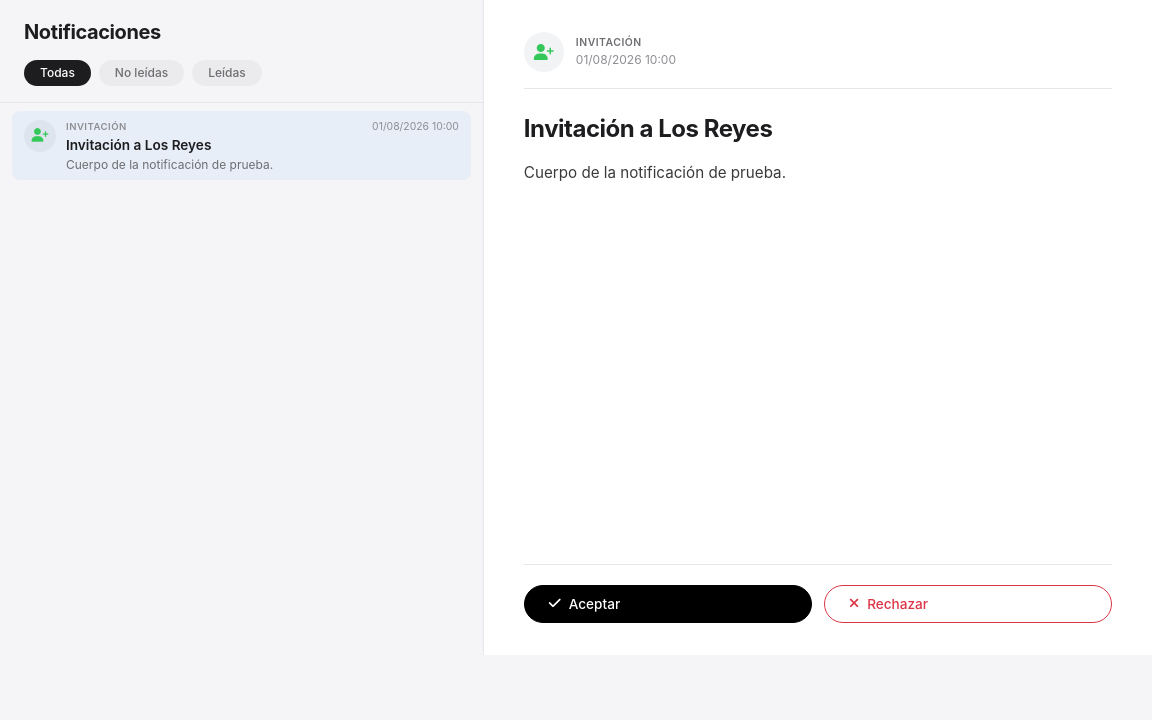
Scenario: Notifications › acepta una invitacion con el modal de confirmacion
The image size is (1152, 720).
Expected: the heading "Notificaciones" is shown, [24,20,161,44]
Click the button "Aceptar" at (594,604), box [524,585,812,623]
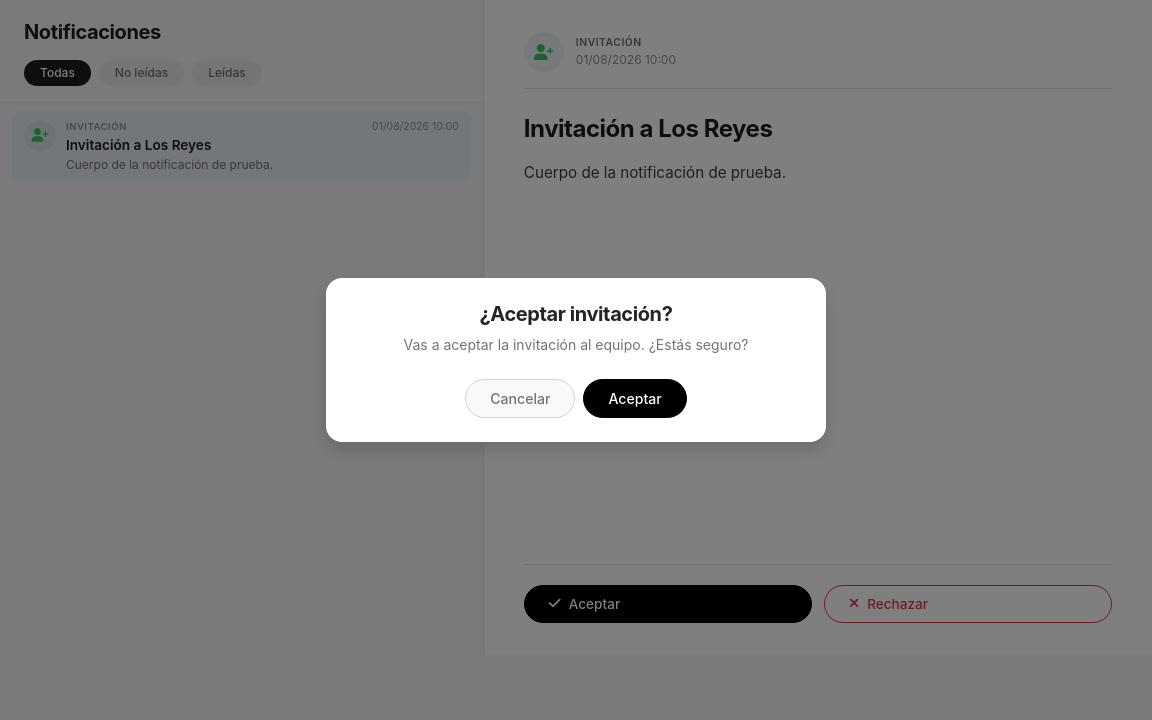
Now the heading "¿Aceptar invitación?" is shown, box [480,302,672,326]
Click the button "Aceptar" at (635,398), box [583,379,687,418]
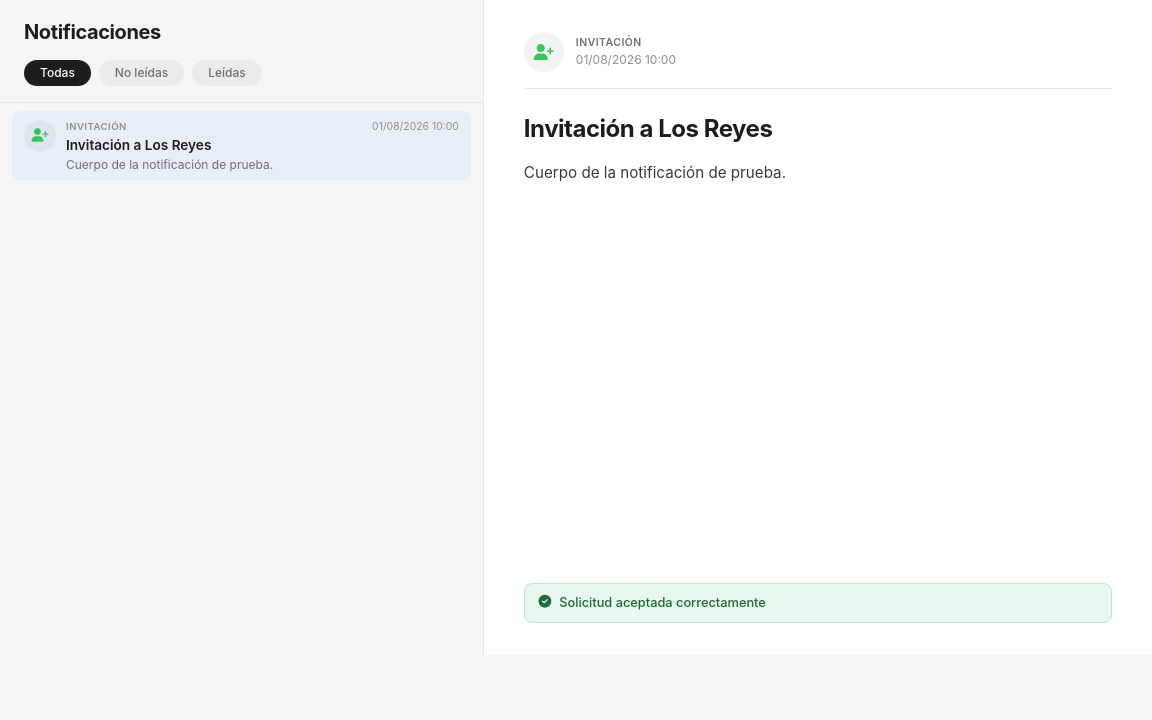
Now the text "Solicitud aceptada correctamente" is shown, box [524,583,1112,623]
